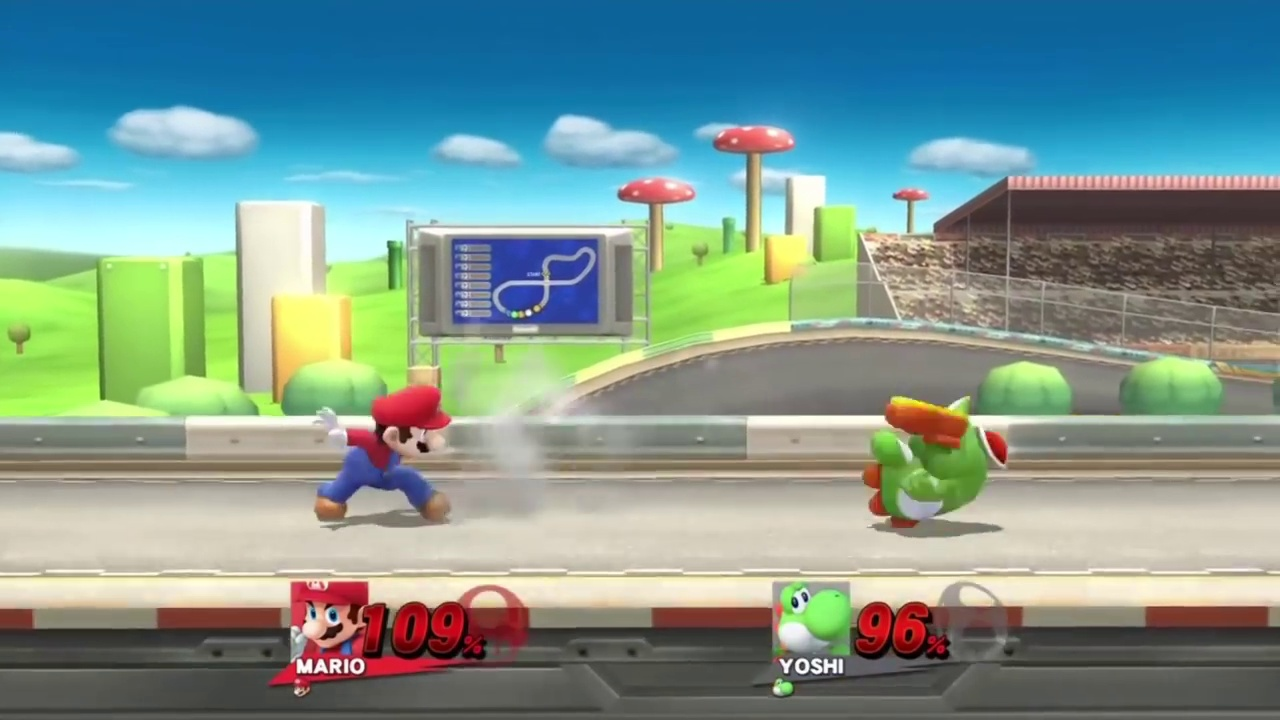Mario: (313, 387, 450, 519)
